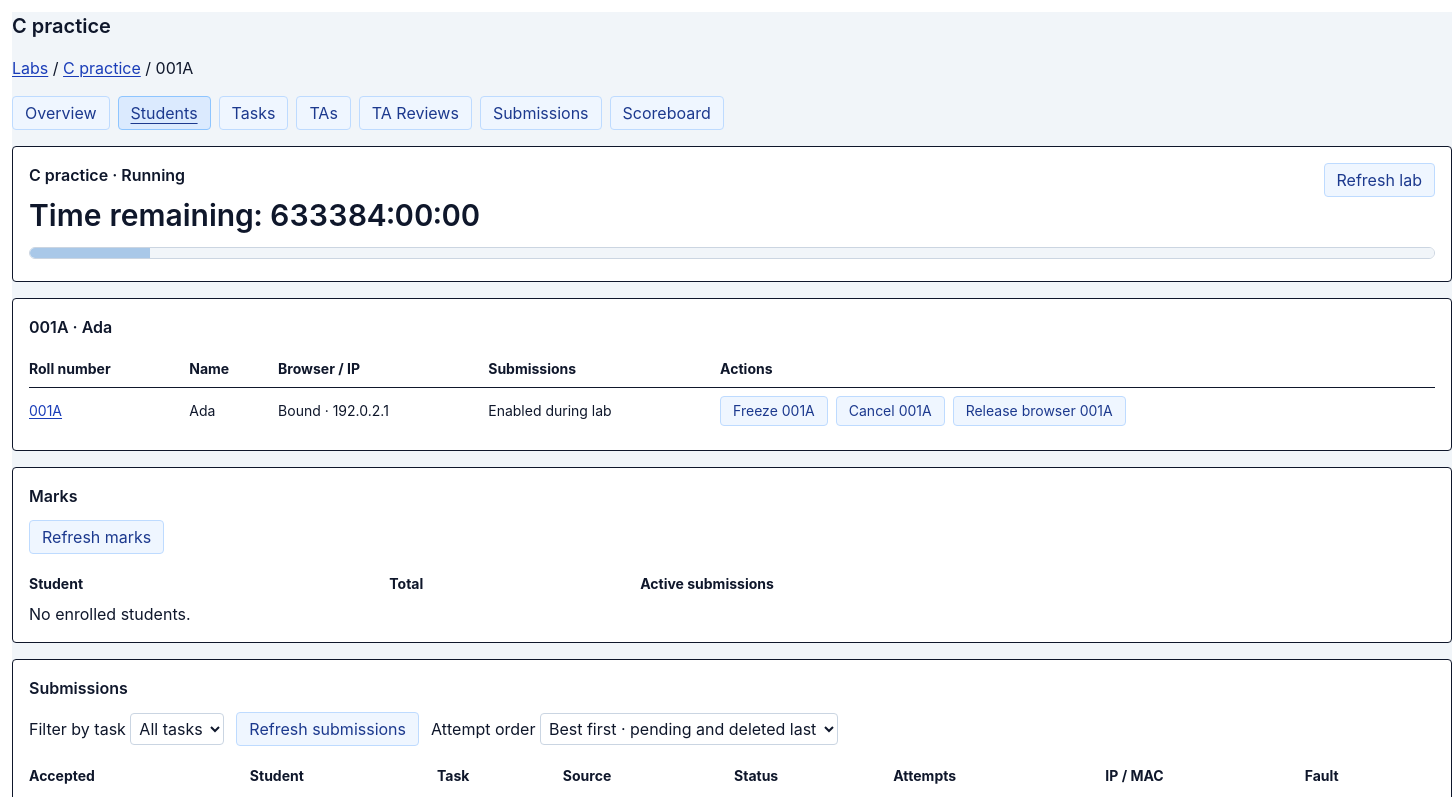
Scenario: browser release shows replacement password to admin
Click the button "Release browser 001A".
click(1039, 411)  # box [953, 396, 1126, 426]
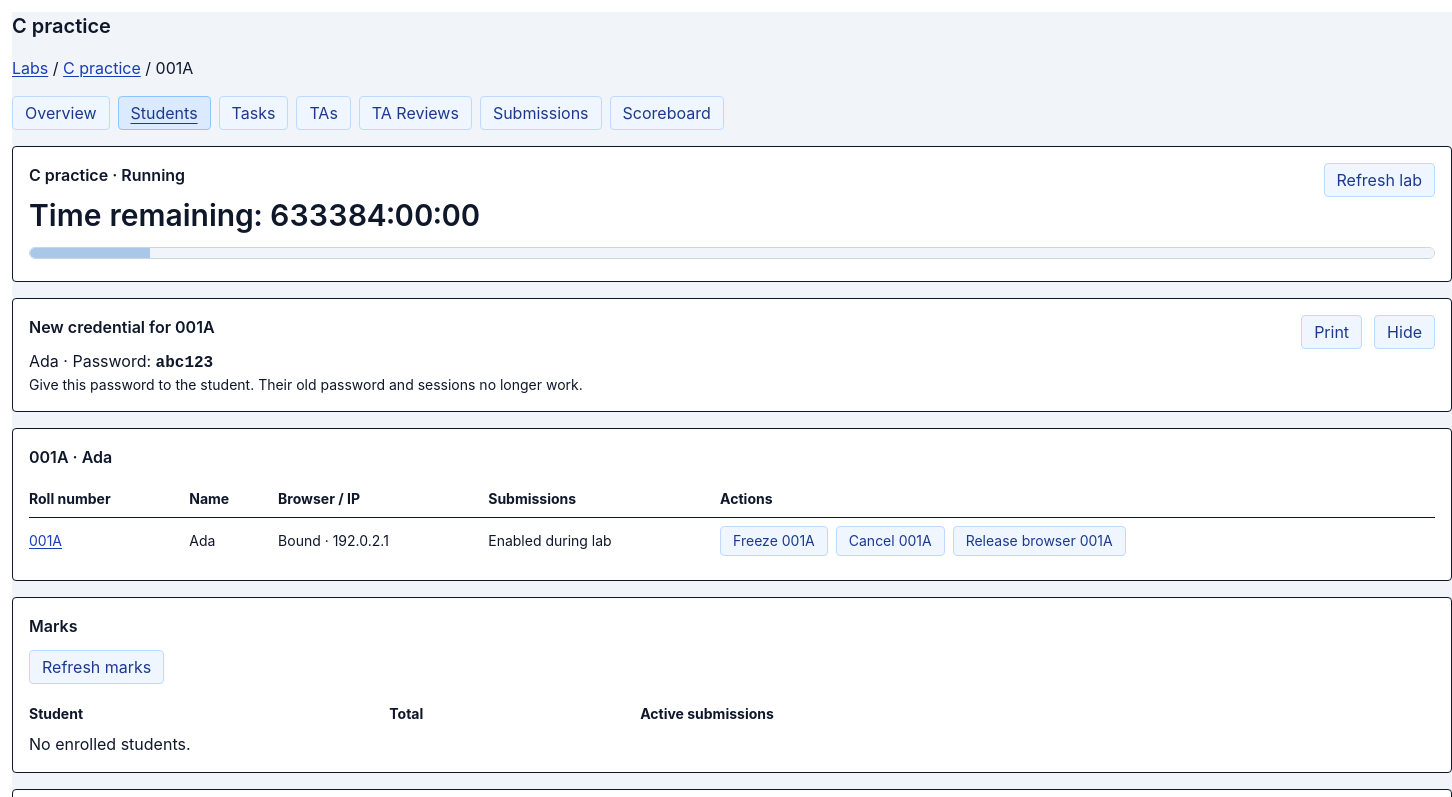
Check: the text "abc123" is shown, box [156, 354, 213, 372]
Click the button "Hide".
click(1405, 332)  # box [1374, 315, 1435, 349]
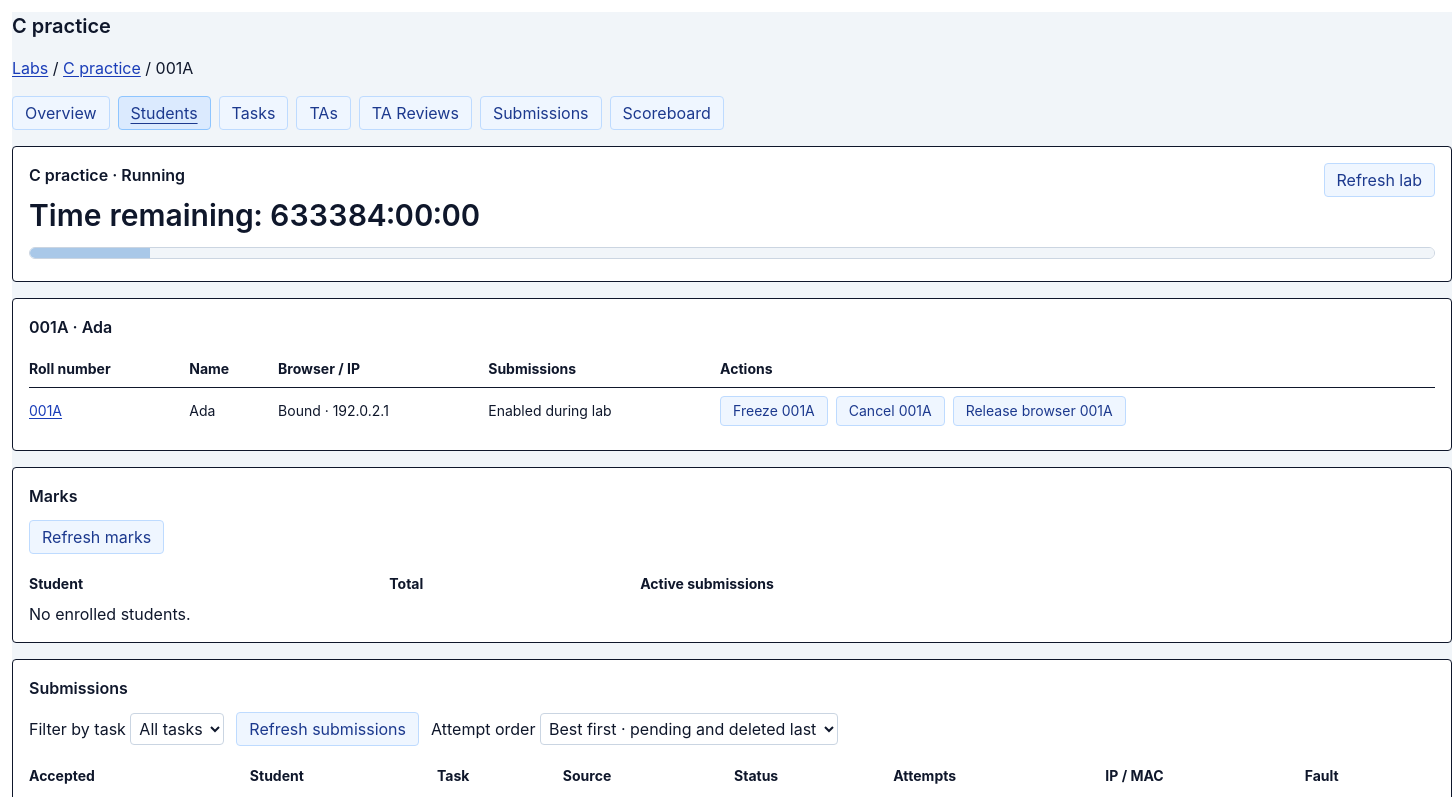
Check: the text "abc123" is gone
